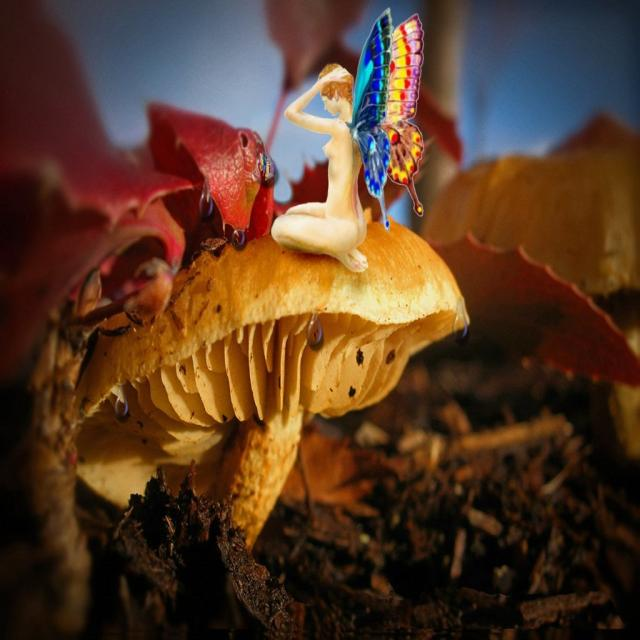Mushroom: (38, 96, 460, 575)
